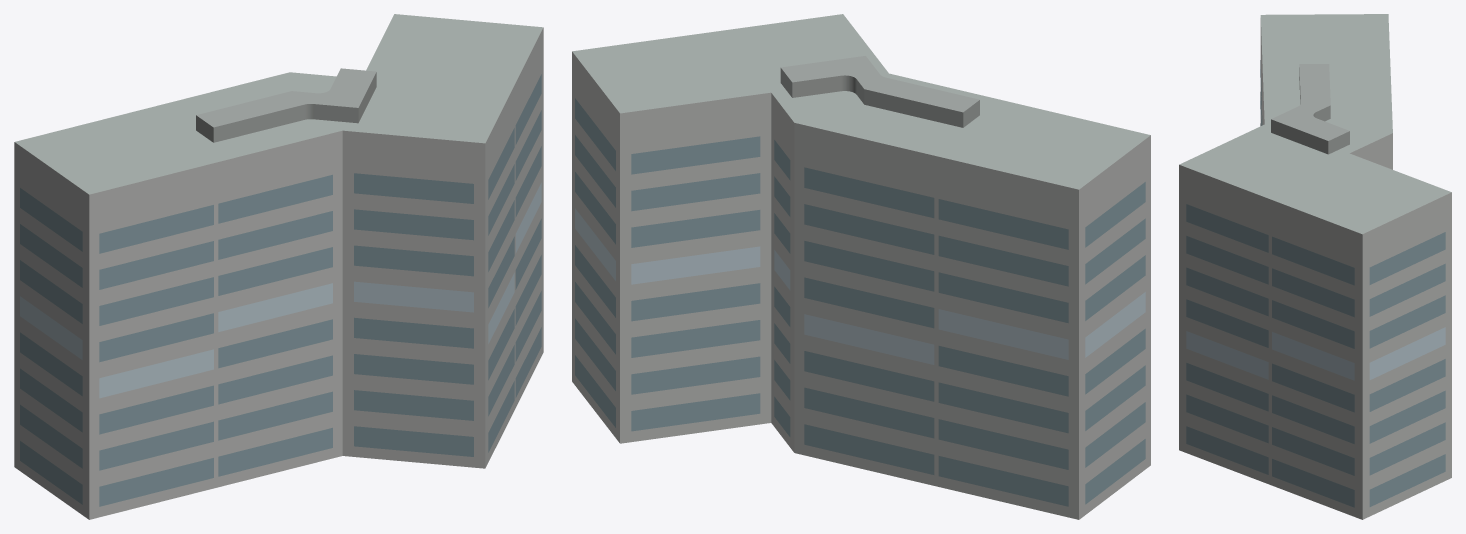
The model's file is fallback-raemian-oksu-riverzen-109.glb.
3 views of the same model, side by side, from view 1: azimuth 30°, elevation 25°; view 2: azimuth 150°, elevation 25°; view 3: azimuth 270°, elevation 25° (orthographic). The views are drawn at different scales.
Parts seen in each view (by area): view 1: fallback-raemian-oksu-riverzen-109; view 2: fallback-raemian-oksu-riverzen-109; view 3: fallback-raemian-oksu-riverzen-109.
Part boxes in pixels (x1,y1,x2,y2): fallback-raemian-oksu-riverzen-109: [14, 14, 543, 519]; fallback-raemian-oksu-riverzen-109: [572, 14, 1150, 519]; fallback-raemian-oksu-riverzen-109: [1179, 14, 1451, 519].
Size of the model in its own units: 42.69 by 27 by 22.32.
